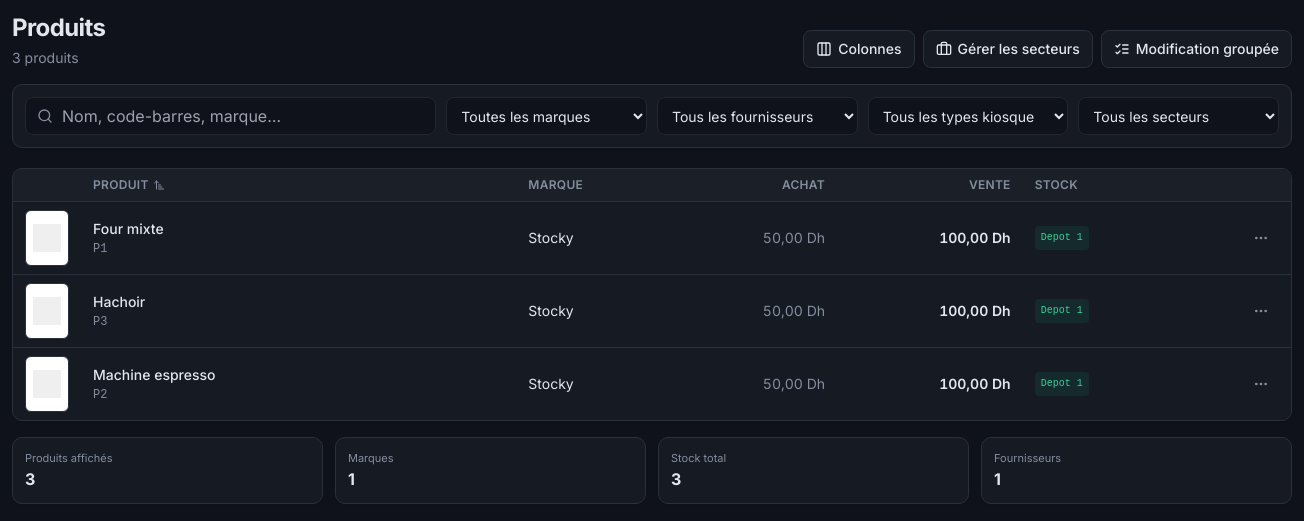
Scenario: ProductsPage business sectors › shows sectors read-only until the row is edited
Click the button "Colonnes": (859, 49) 803,30 -> 914,68
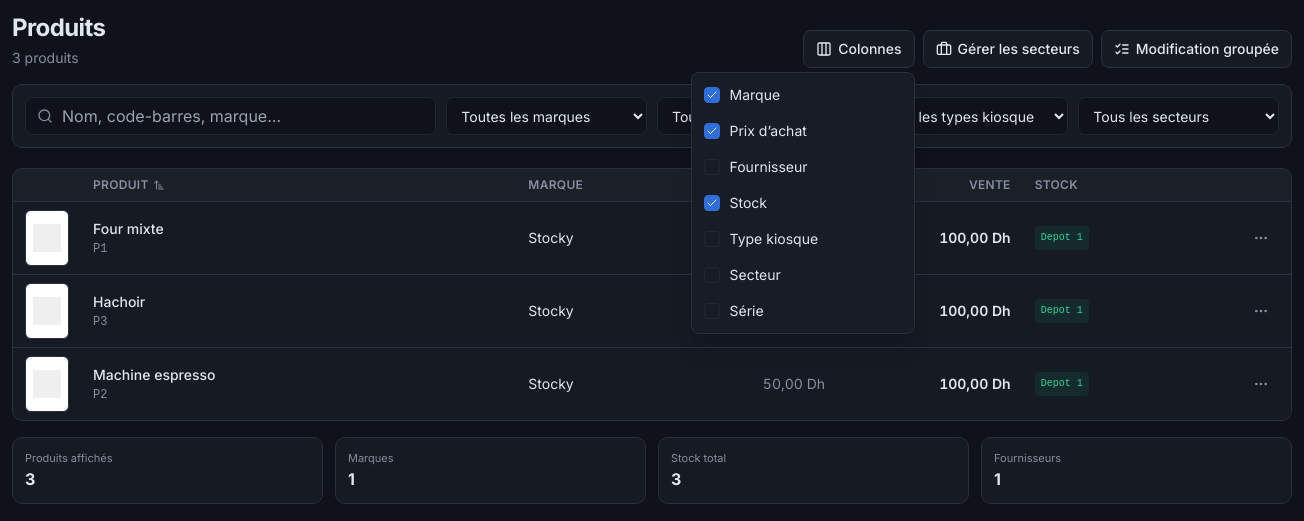
Click the checkbox labelled "Secteur": (742, 274) 704,266 -> 781,283
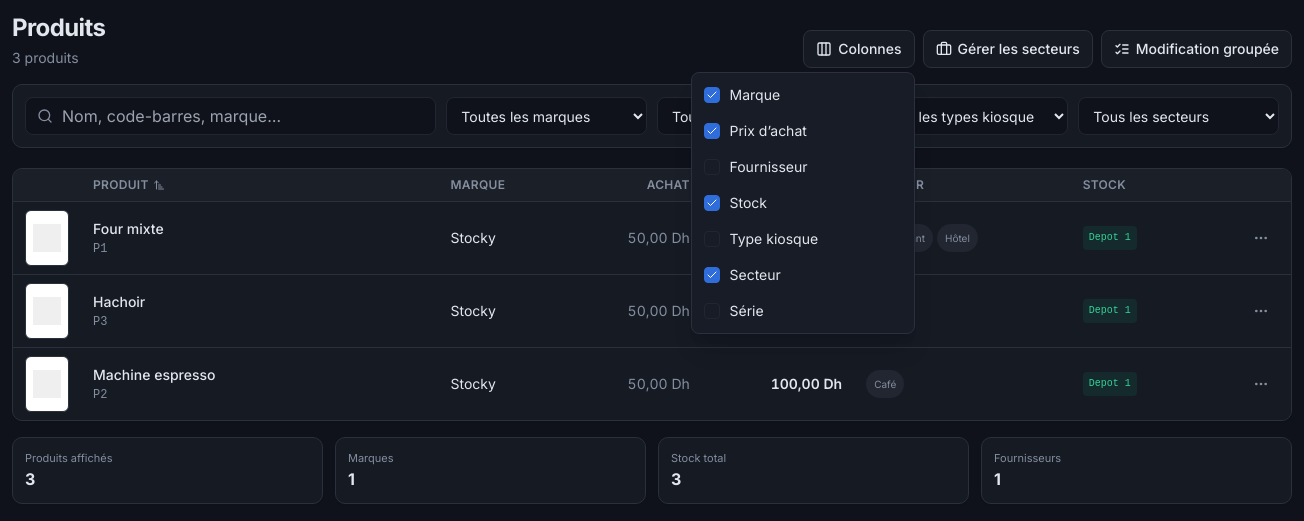
Expected: the text "Restaurant" is shown, 866,224 -> 933,252
Expected: the text "Hôtel" is shown, 937,224 -> 978,252
